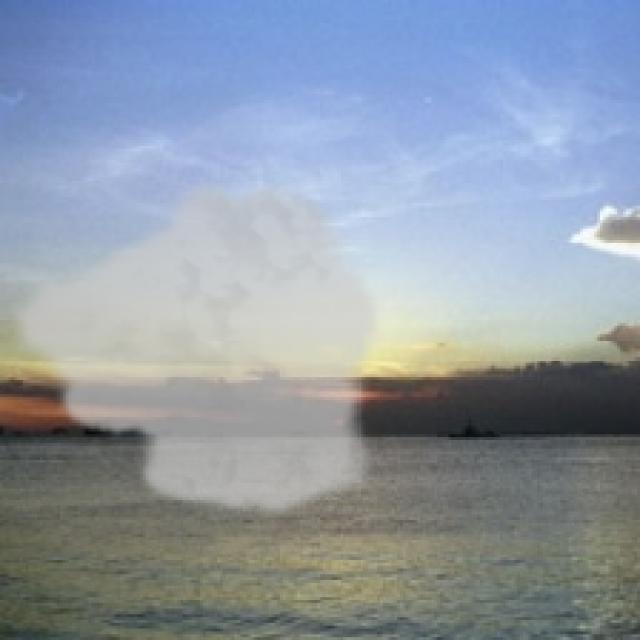smoke: (3, 171, 386, 520)
